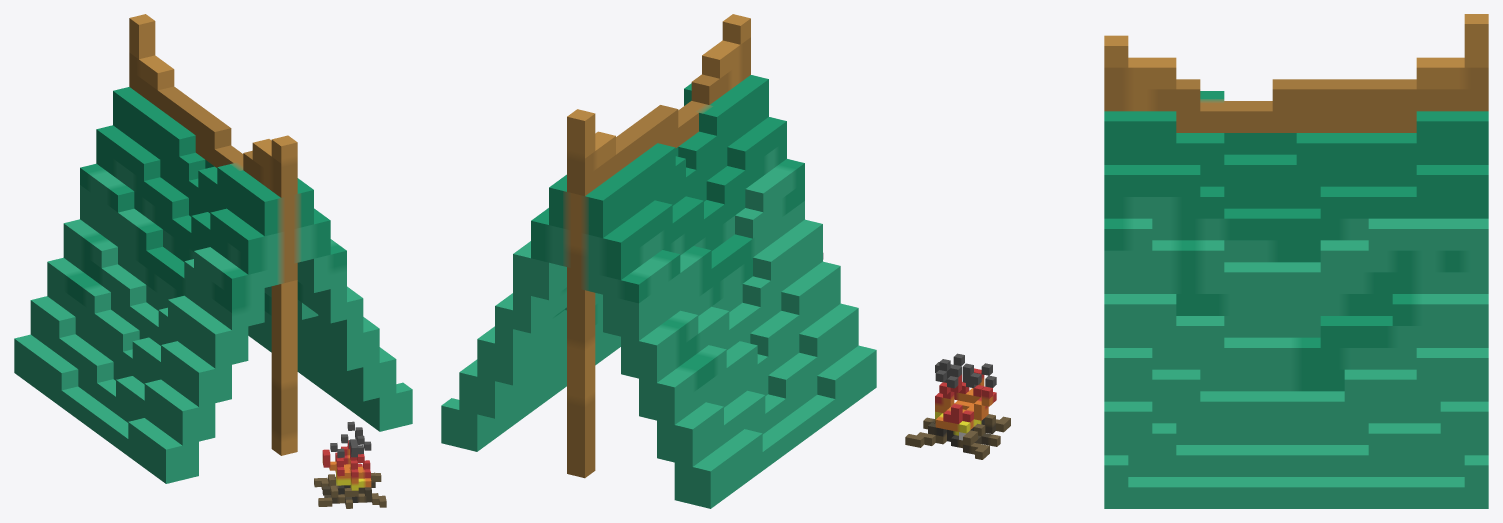
File: wizard_Home.fbx
The picture shows the model from 3 angles, left to right: view 1: azimuth 30°, elevation 25°; view 2: azimuth 150°, elevation 25°; view 3: azimuth 270°, elevation 25°; orthographic projection. The views are drawn at different scales.
Parts seen in each view (by area): view 1: Matrix; view 2: Matrix; view 3: Matrix.
Boxes of the visible parts, x1=… form: Matrix: x1=14, y1=14, x2=412, y2=508; Matrix: x1=441, y1=14, x2=876, y2=508; Matrix: x1=905, y1=14, x2=1488, y2=508.
Bounding box in the file's own units: 42.18 × 53.51 × 68.3.
2 materials, 2 textured.
